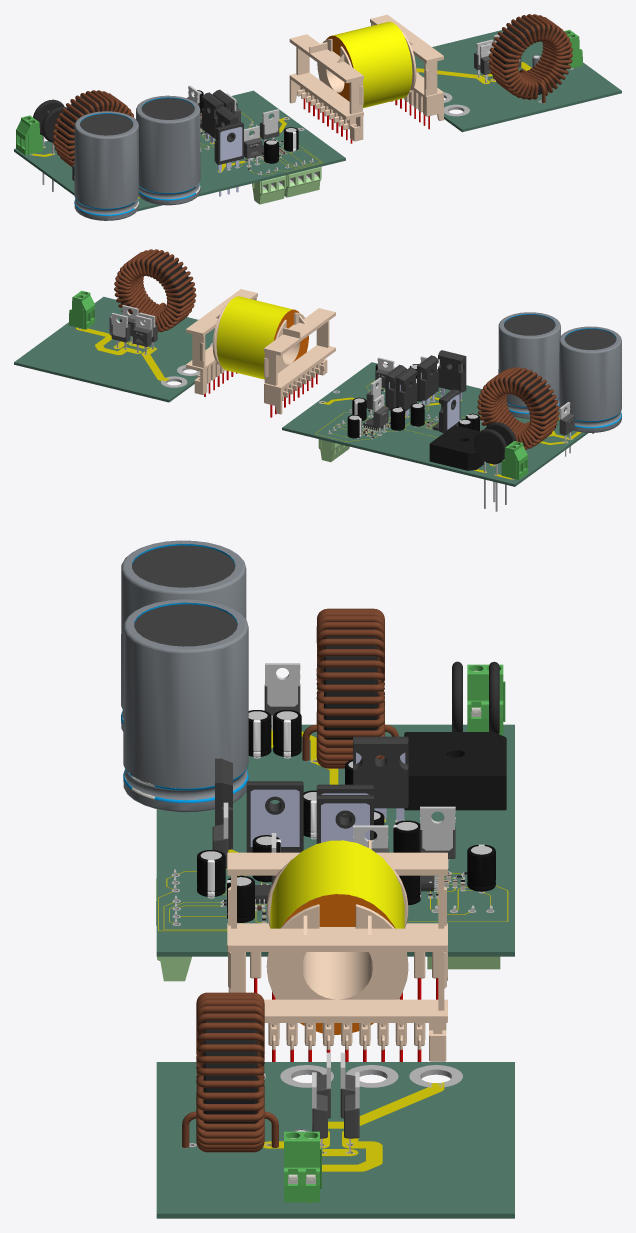
File: sst-pcb.glb
The picture shows the model from 3 angles, top to bottom: view 1: azimuth 30°, elevation 25°; view 2: azimuth 150°, elevation 25°; view 3: azimuth 270°, elevation 25°; orthographic projection. The views are drawn at different scales.
Bounding box in the file's own units: 0.3356 × 0.0735 × 0.1099.
1 material, 1 textured.
